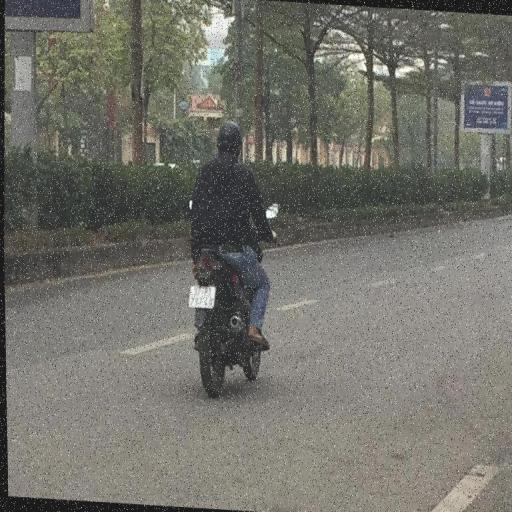bike: (182, 116, 282, 401)
numberplate: (186, 283, 216, 311)
with helmet: (216, 119, 242, 155)
